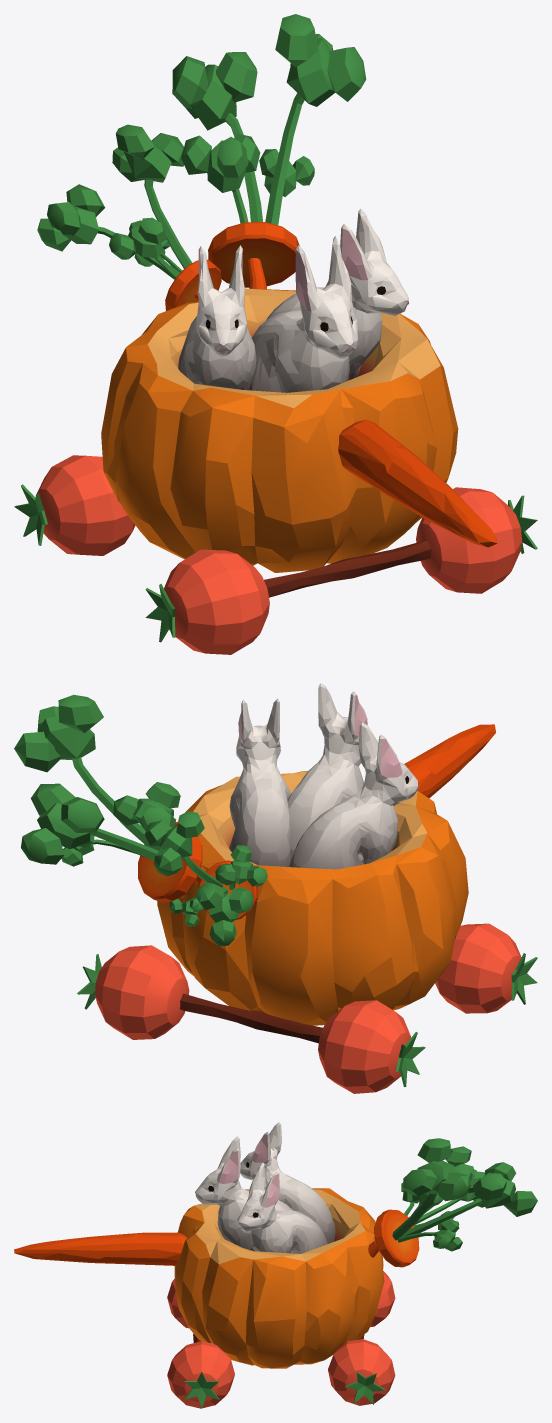
The model's file is rabbit.FBX.
3 renders of one model, top to bottom at view 1: azimuth 30°, elevation 25°; view 2: azimuth 150°, elevation 25°; view 3: azimuth 270°, elevation 25°, orthographic. The views are drawn at different scales.
Visible parts, largest first — view 1: tank, rabbits; view 2: tank, rabbits; view 3: tank, rabbits.
Part boxes in pixels (x1=…): tank: x1=14, y1=14, x2=537, y2=654; rabbits: x1=178, y1=208, x2=408, y2=392; tank: x1=14, y1=694, x2=537, y2=1093; rabbits: x1=229, y1=683, x2=418, y2=869; tank: x1=14, y1=1138, x2=537, y2=1408; rabbits: x1=195, y1=1122, x2=335, y2=1253.
Bounding box in the file's own units: 21.98 × 23.93 × 41.68.
Materials: 3 (3 with a texture image).
